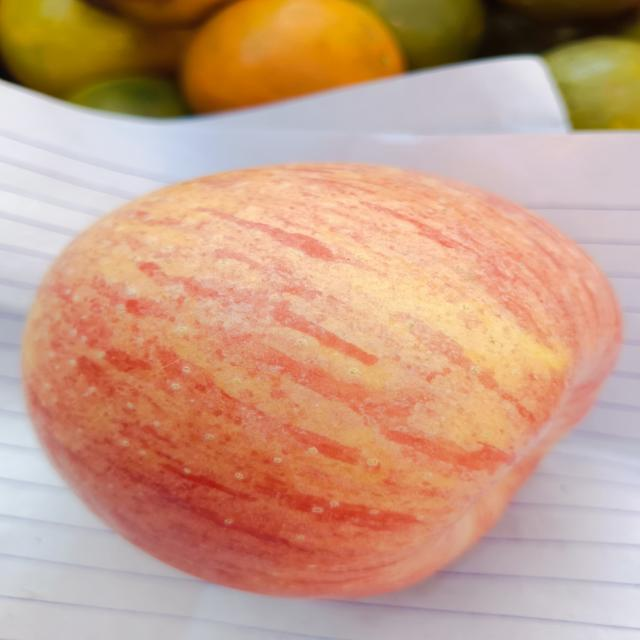Fresh Apple: (22, 163, 603, 590)
